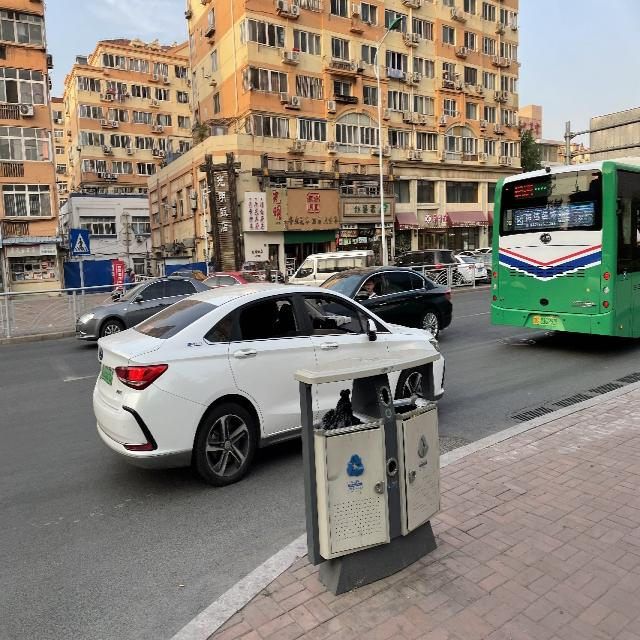overflow: (294, 349, 441, 597)
